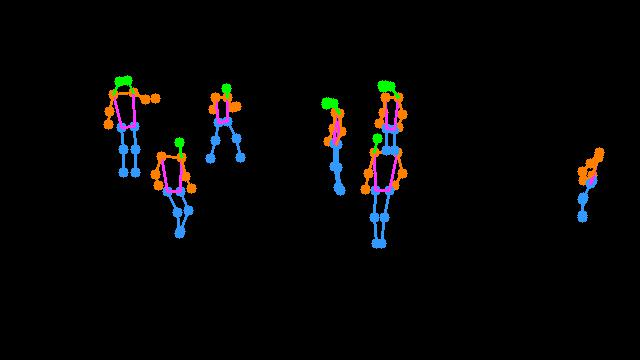normal: (93, 63, 167, 186), (147, 131, 207, 246), (197, 75, 255, 170)
